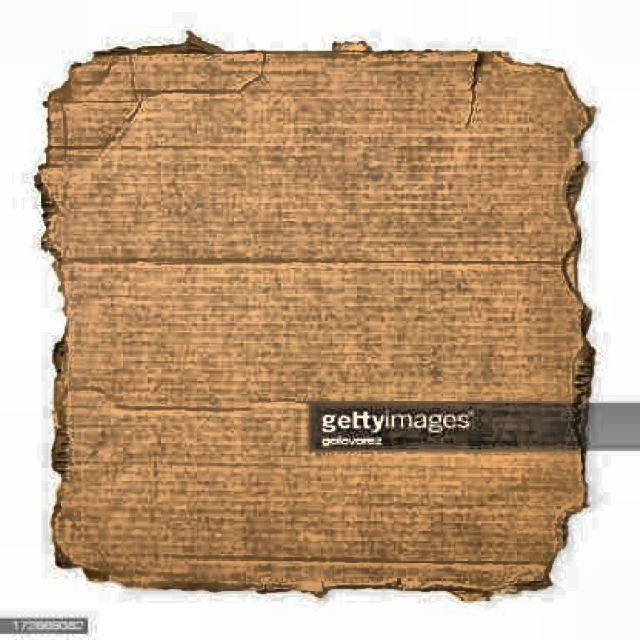Cardbox: (22, 10, 594, 610)
